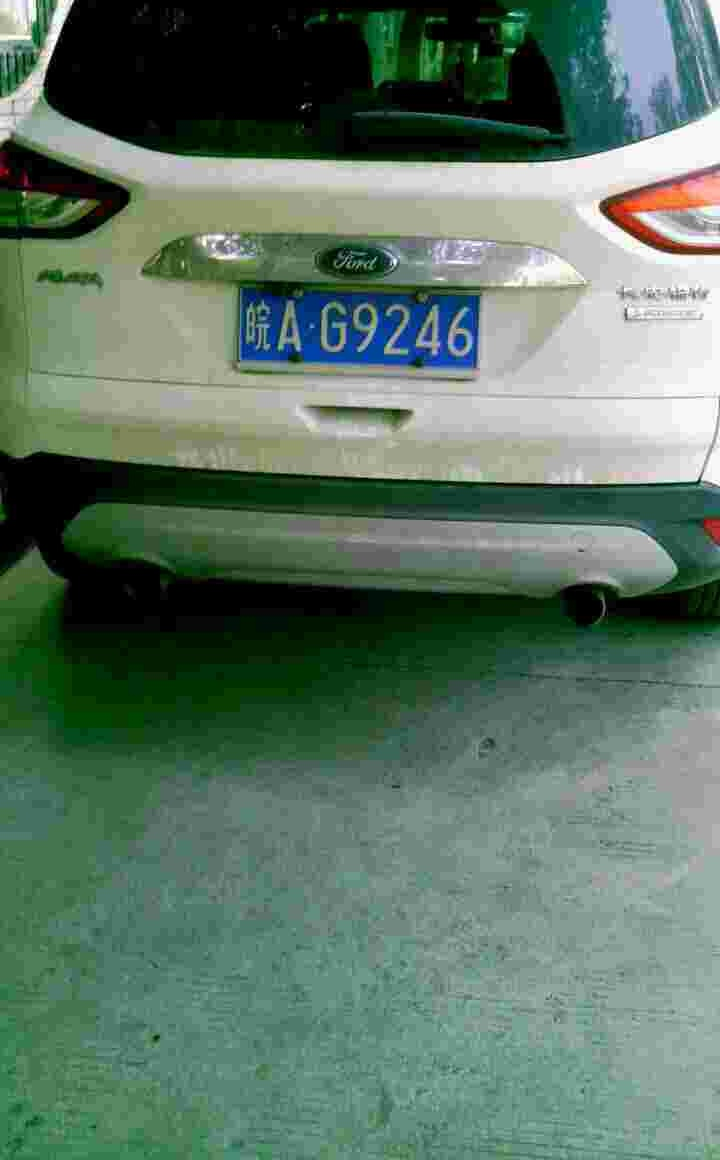plate: (238, 283, 489, 373)
